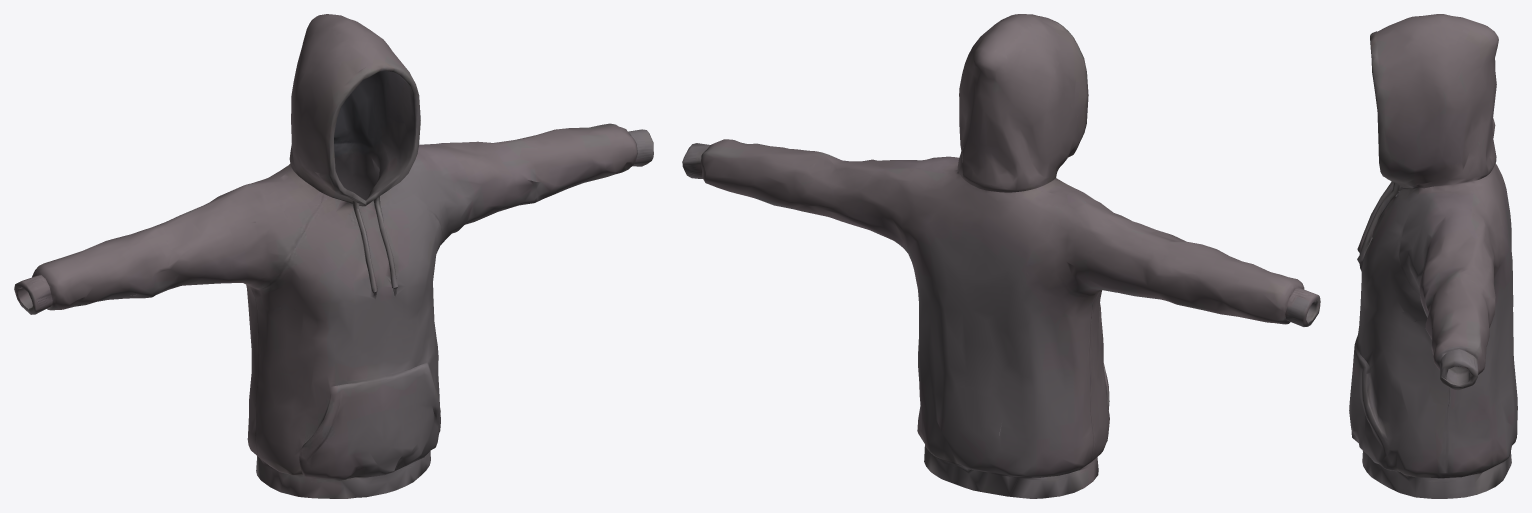
File: top_hoodie_f_idle.glb
3 views of the same model, side by side, from view 1: azimuth 30°, elevation 25°; view 2: azimuth 150°, elevation 25°; view 3: azimuth 270°, elevation 25° (orthographic).
Parts seen in each view (by area): view 1: tripo_node_b6aa9892-51db-4349-922d-c5696b177349; view 2: tripo_node_b6aa9892-51db-4349-922d-c5696b177349; view 3: tripo_node_b6aa9892-51db-4349-922d-c5696b177349.
Part boxes in pixels (<box>): tripo_node_b6aa9892-51db-4349-922d-c5696b177349: <box>14,14,653,498</box>; tripo_node_b6aa9892-51db-4349-922d-c5696b177349: <box>682,14,1320,498</box>; tripo_node_b6aa9892-51db-4349-922d-c5696b177349: <box>1349,14,1517,498</box>.
Bounding box in the file's own units: 1.5 × 1.02 × 0.3506.
Materials: 1 (1 with a texture image).
